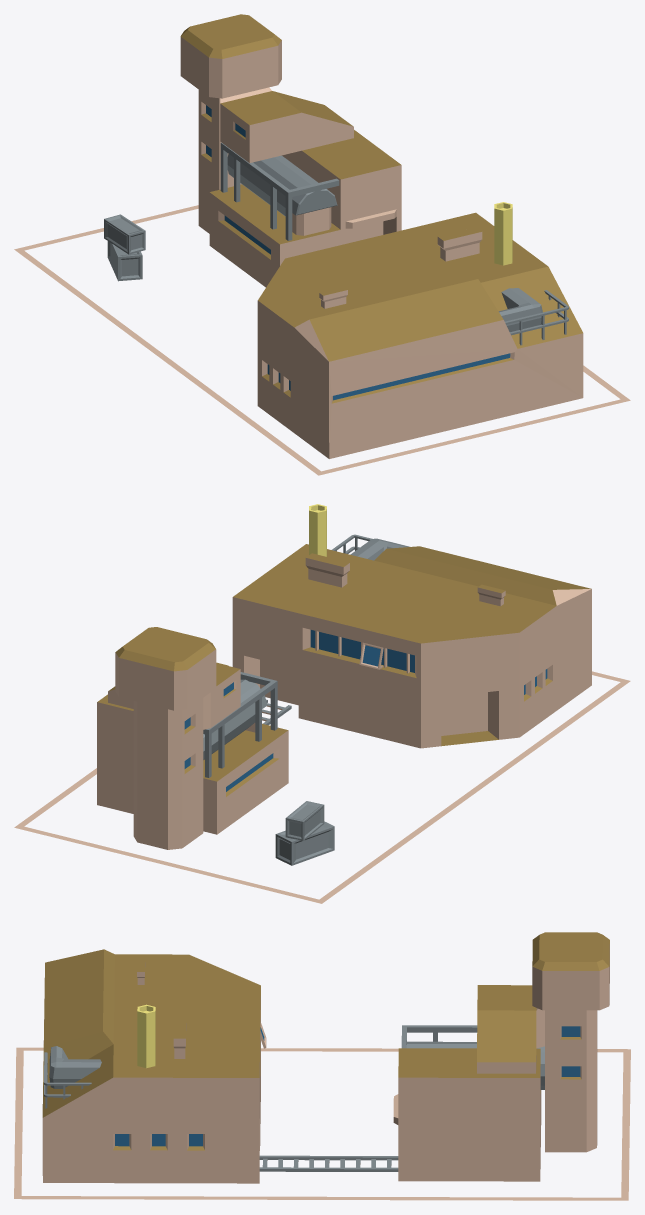
File: FactoryWater_2.fbx
3 views of the same model, one above another, from view 1: azimuth 30°, elevation 25°; view 2: azimuth 150°, elevation 25°; view 3: azimuth 270°, elevation 25° (orthographic).
Parts seen in each view (by area): view 1: Factory_Water_2.001; view 2: Factory_Water_2.001; view 3: Factory_Water_2.001.
Part boxes in pixels (x1,y1,x2,y2): Factory_Water_2.001: (14,14,630,475); Factory_Water_2.001: (14,504,630,903); Factory_Water_2.001: (14,932,630,1200).
Bounding box in the file's own units: 444 × 261 × 755.
